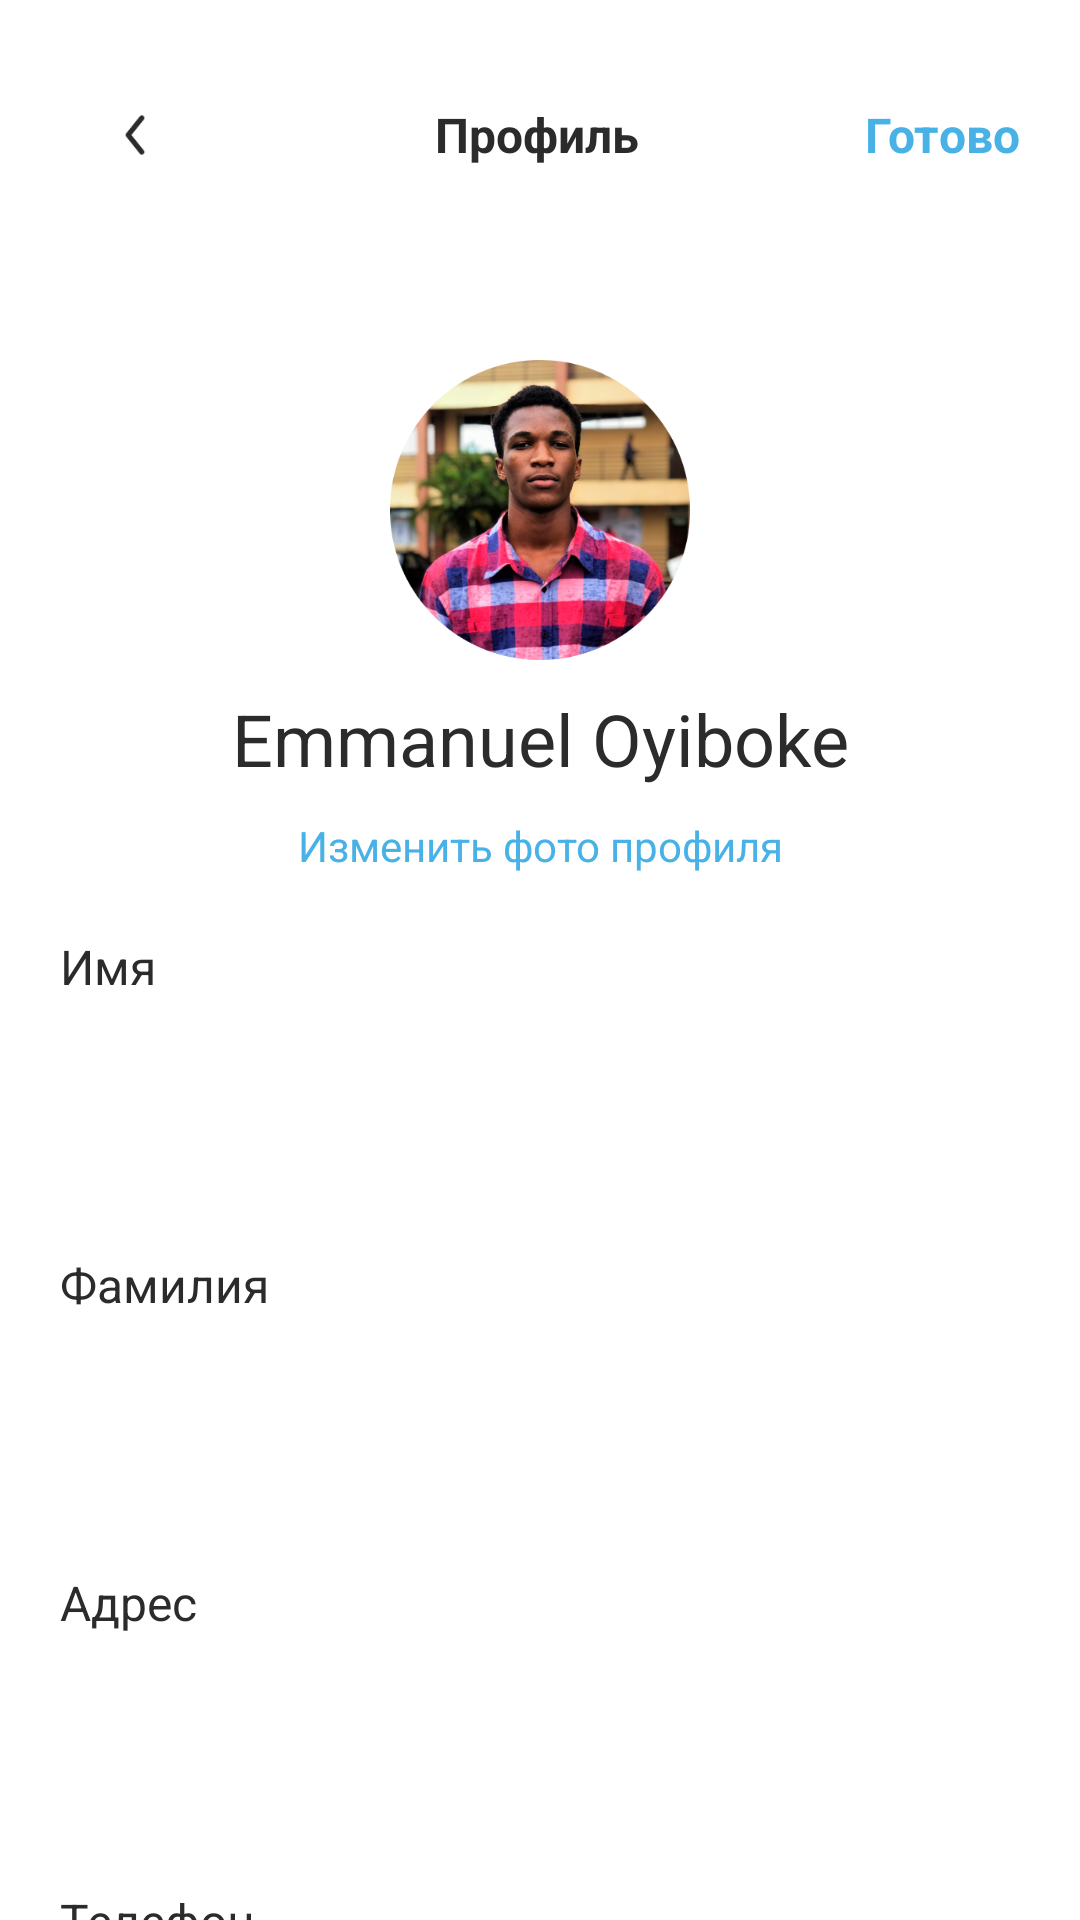

Icons on this 1080x1920 Android screen, each with the point to tap as (x=x, y=y):
back: (x=135, y=135)
user: (x=540, y=510)
